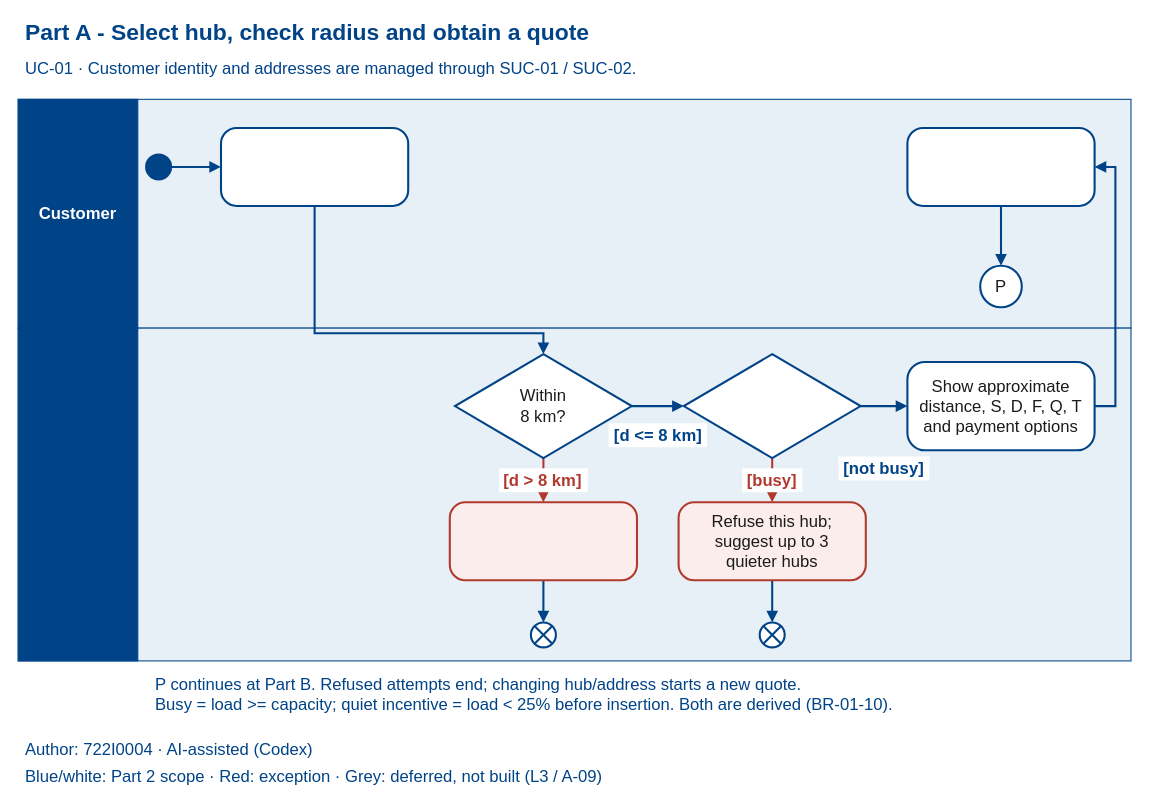
Some shapes in this 1149 by 804 pixel diagram are drawn without their labels. The shapes that lost their labels are listed below. From the top down, each one's centre as x and y in pixels, then its label:
At point 314,166: "Choose hub, items and own address".
At point 1000,166: "Review full quote and choose payment".
At point 771,406: "Hub busy?".
At point 77,494: "System".
At point 543,541: "Refuse: beyond raw 8 km radius".
